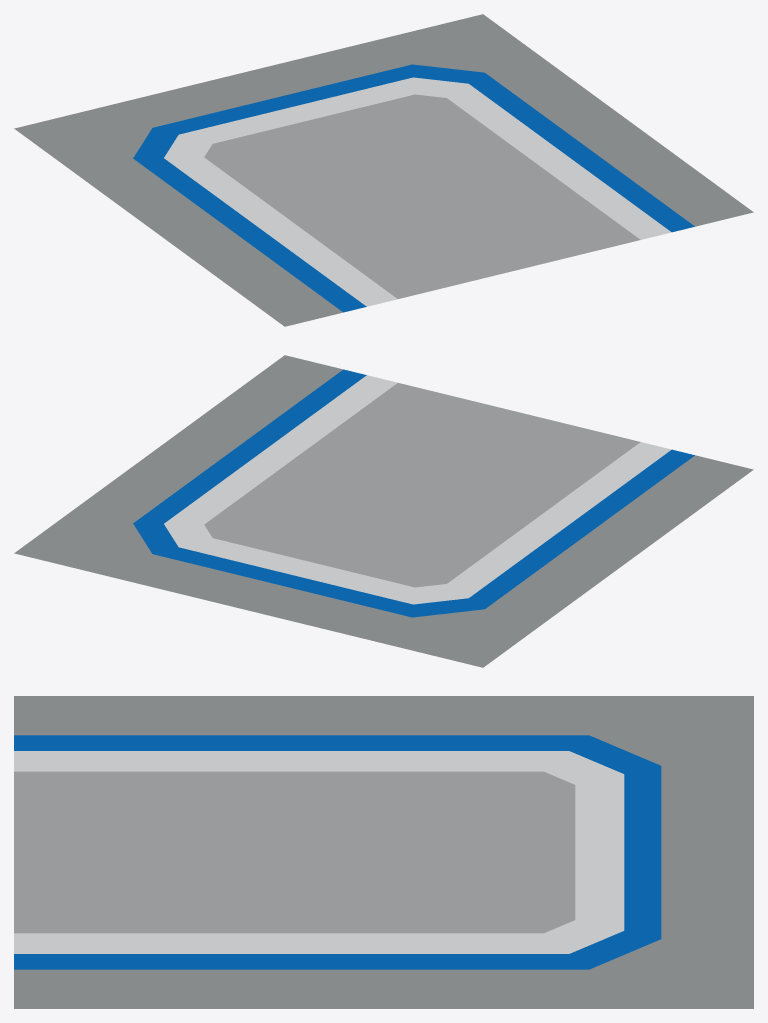
The model's file is Ceiling_type_A_005.fbx.
The picture shows the model from 3 angles, top to bottom: view 1: azimuth 30°, elevation 25°; view 2: azimuth 150°, elevation 25°; view 3: azimuth 270°, elevation 25°; orthographic projection. The views are drawn at different scales.
Parts seen in each view (by area): view 1: Ceiling_type_A_005; view 2: Ceiling_type_A_005; view 3: Ceiling_type_A_005.
Boxes of the visible parts, bbox=[...] form: Ceiling_type_A_005: bbox=[14, 14, 753, 326]; Ceiling_type_A_005: bbox=[14, 355, 753, 667]; Ceiling_type_A_005: bbox=[14, 696, 753, 1008].
Size of the model in its own units: 400 by 400 by 4.55.
